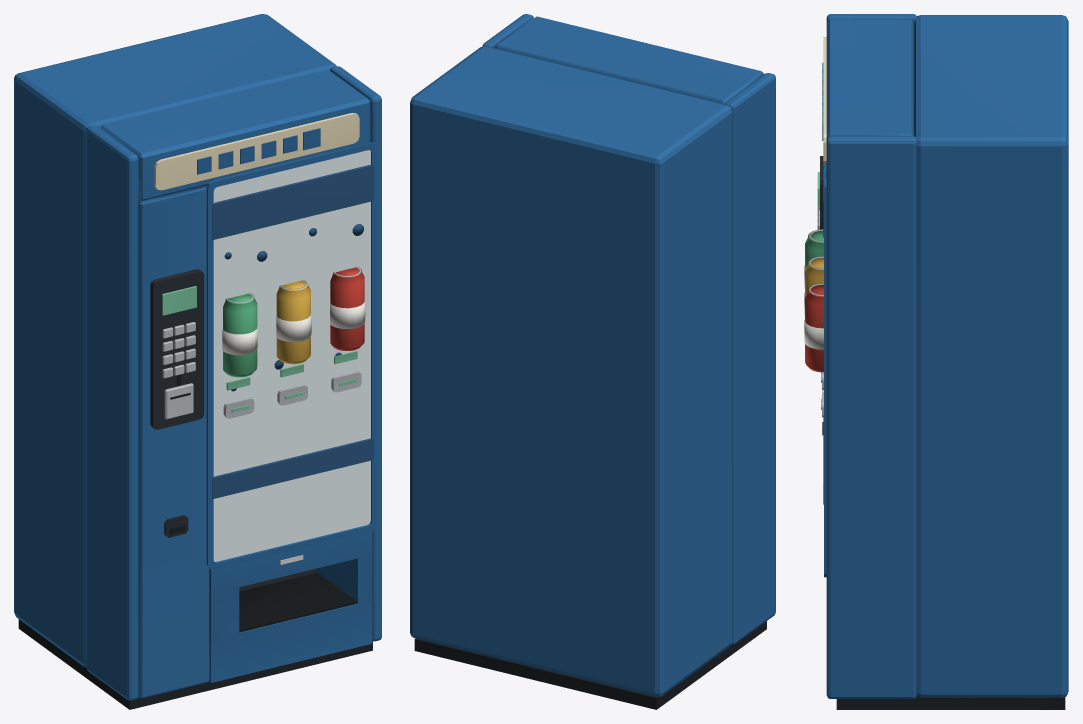
Rendered from vendingDrink.glb.
3 views of the same model, side by side, from view 1: azimuth 30°, elevation 25°; view 2: azimuth 150°, elevation 25°; view 3: azimuth 270°, elevation 25° (orthographic). The views are drawn at different scales.
Parts seen in each view (by area): view 1: body; view 2: body; view 3: body.
Part boxes in pixels (x1,y1,x2,y2): body: [14, 14, 381, 709]; body: [410, 14, 775, 709]; body: [804, 14, 1068, 709].
Size of the model in its own units: 0.9 by 1.88 by 0.7865.
